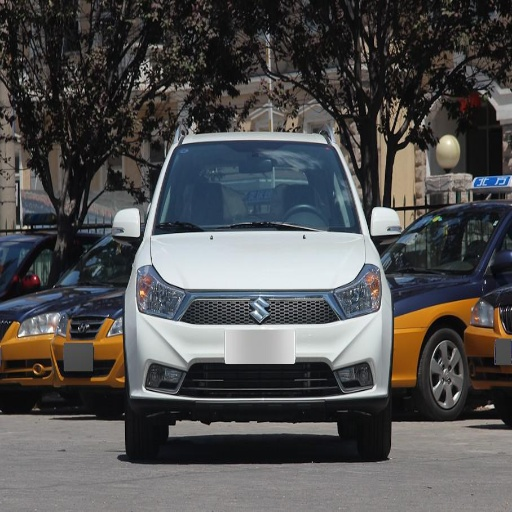front_bumper: (131, 287, 392, 421)
front_glass: (154, 142, 360, 234)
front_left_door: (487, 245, 509, 337)
front_right_light: (135, 267, 182, 317)
hood: (149, 232, 367, 289)
